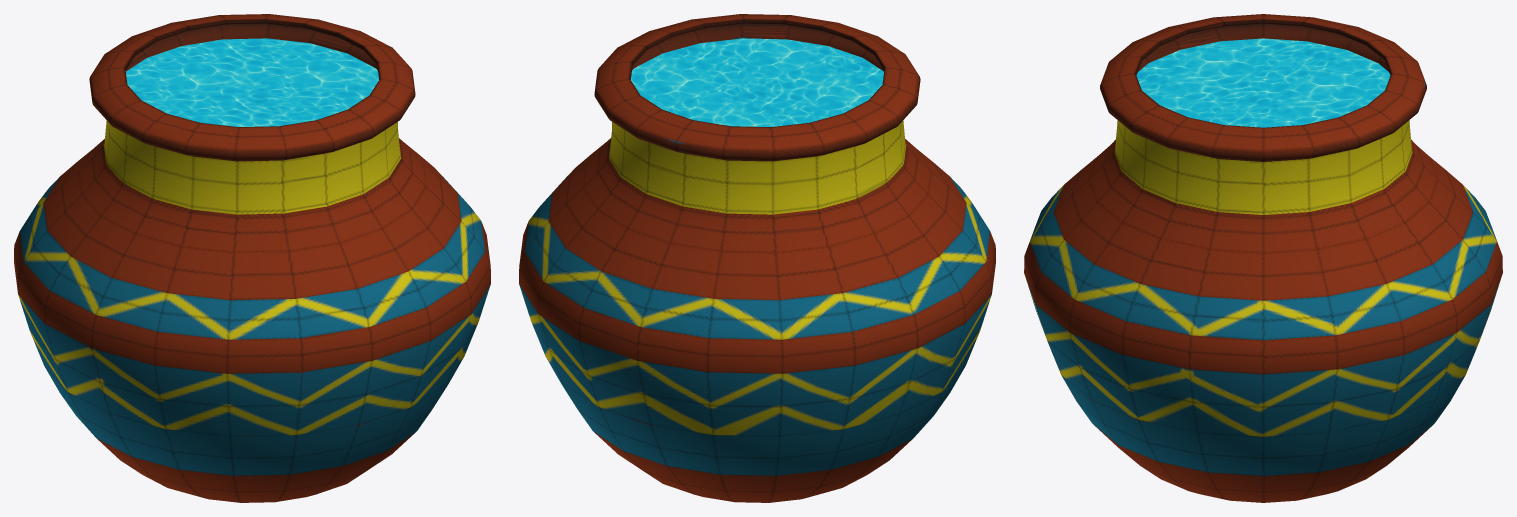
The model's file is Matka-02-filled.fbx.
3 views of the same model, side by side, from view 1: azimuth 30°, elevation 25°; view 2: azimuth 150°, elevation 25°; view 3: azimuth 270°, elevation 25° (orthographic).
Visible parts, largest first — view 1: BezierCurve; view 2: BezierCurve; view 3: BezierCurve.
Part boxes in pixels (x1=…): BezierCurve: x1=14, y1=14, x2=490, y2=502; BezierCurve: x1=519, y1=14, x2=995, y2=502; BezierCurve: x1=1024, y1=14, x2=1502, y2=502.
Size of the model in its own units: 220 by 203 by 220.
2 materials, 2 textured.
